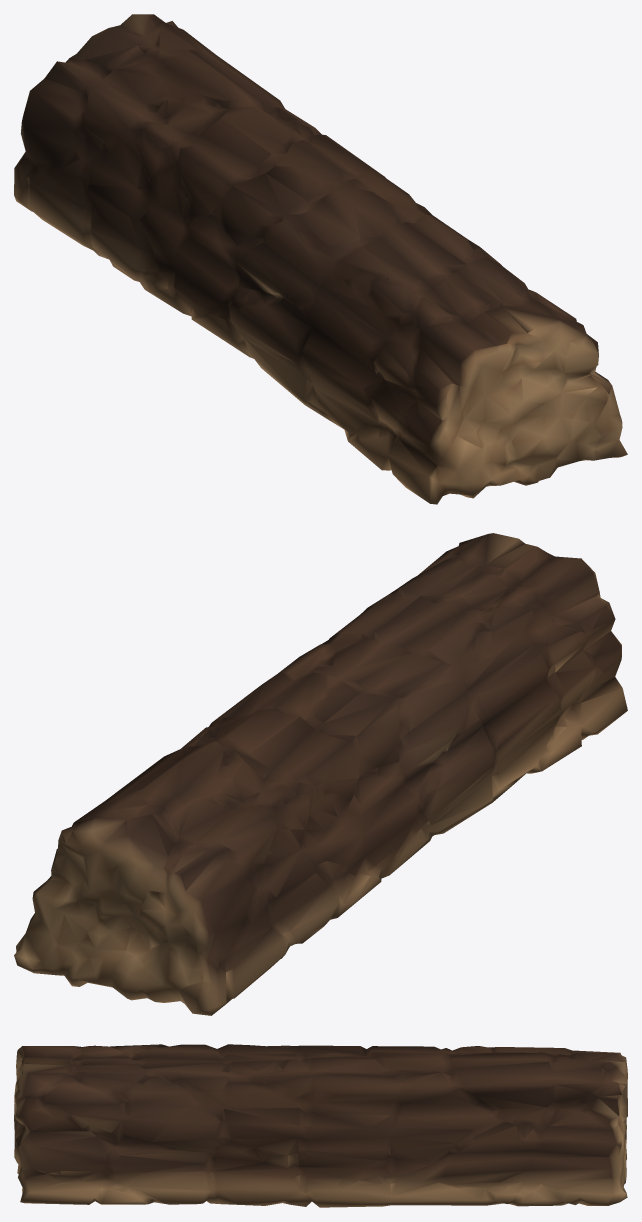
Rendered from ember_split_log_b_lod1.glb.
The picture shows the model from 3 angles, top to bottom: view 1: azimuth 30°, elevation 25°; view 2: azimuth 150°, elevation 25°; view 3: azimuth 270°, elevation 25°; orthographic projection. The views are drawn at different scales.
Visible parts, largest first — view 1: ember_split_log_b.001; view 2: ember_split_log_b.001; view 3: ember_split_log_b.001.
Boxes of the visible parts, x1,y1,x2,y2 form: ember_split_log_b.001: (14,14,627,504); ember_split_log_b.001: (14,533,627,1015); ember_split_log_b.001: (14,1044,627,1207).
Size of the model in its own units: 16.2 by 12.76 by 56.96.
